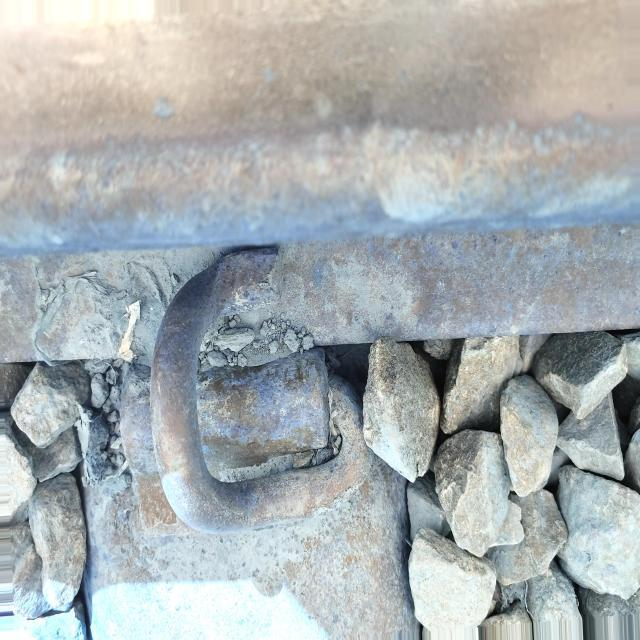Good Fasteners: (120, 248, 372, 532)
